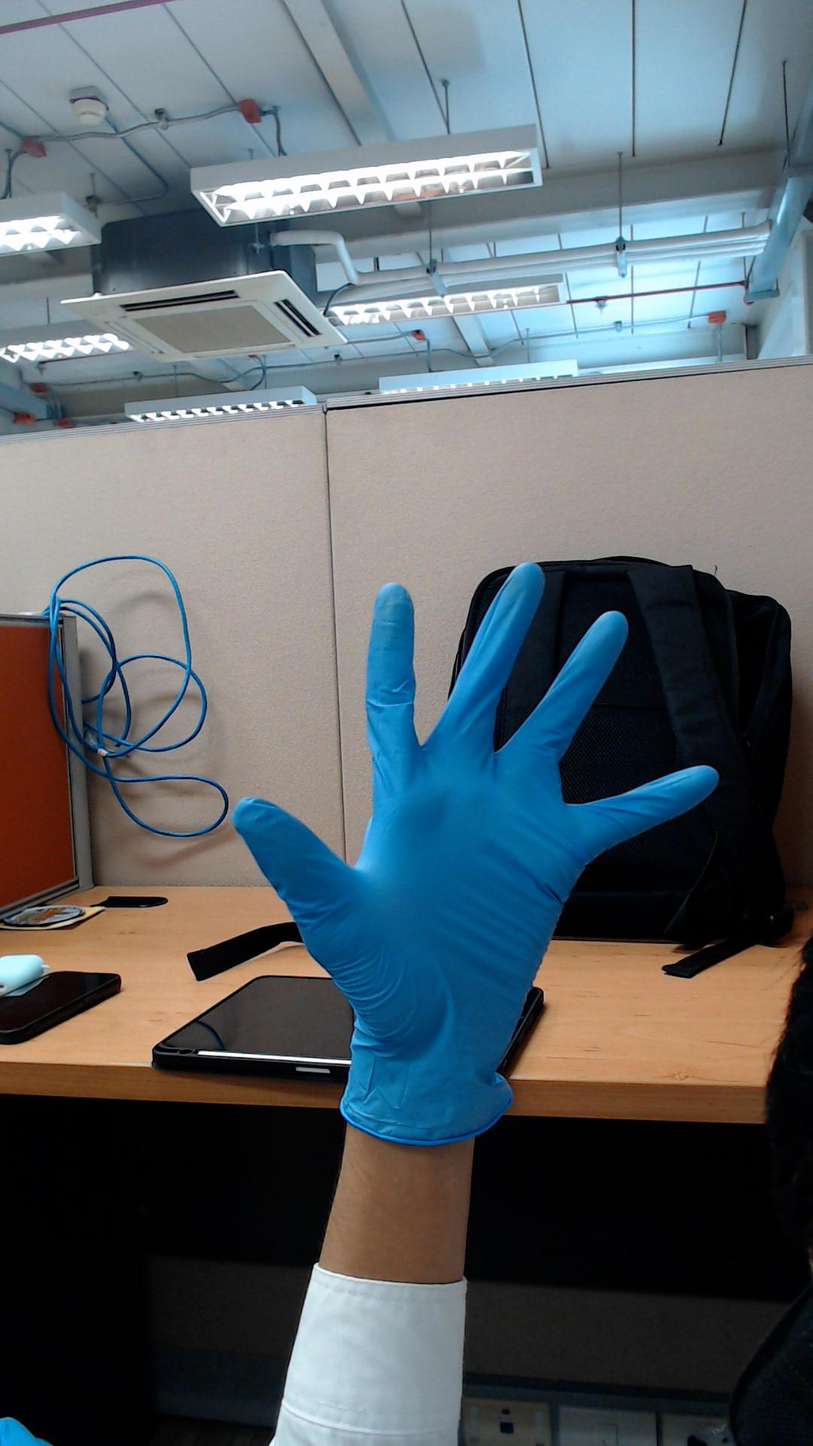gloves: (212, 531, 735, 1047)
